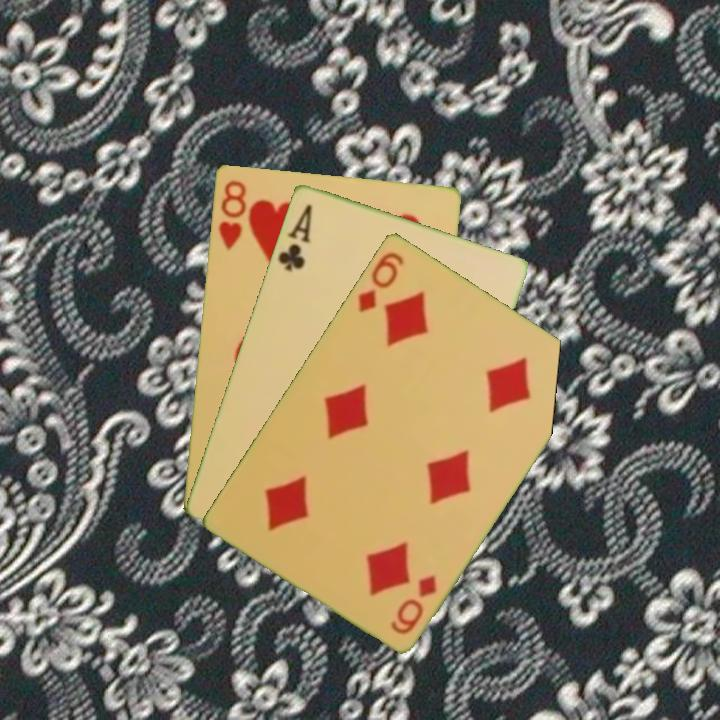6d: (354, 247, 407, 315), (387, 570, 440, 637)
8h: (214, 176, 249, 254)
Ac: (274, 200, 315, 274)
